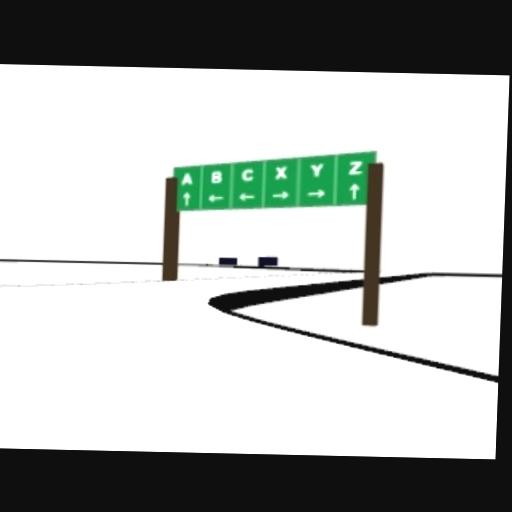A: (181, 172, 192, 185)
B: (210, 169, 221, 183)
C: (240, 167, 254, 180)
Left: (238, 190, 256, 201), (207, 194, 223, 202)
Right: (306, 188, 324, 198), (271, 190, 289, 199)
Straight: (348, 182, 360, 200), (182, 191, 190, 205)
X: (273, 165, 287, 180)
Y: (309, 162, 323, 176)
Z: (348, 160, 364, 174)
